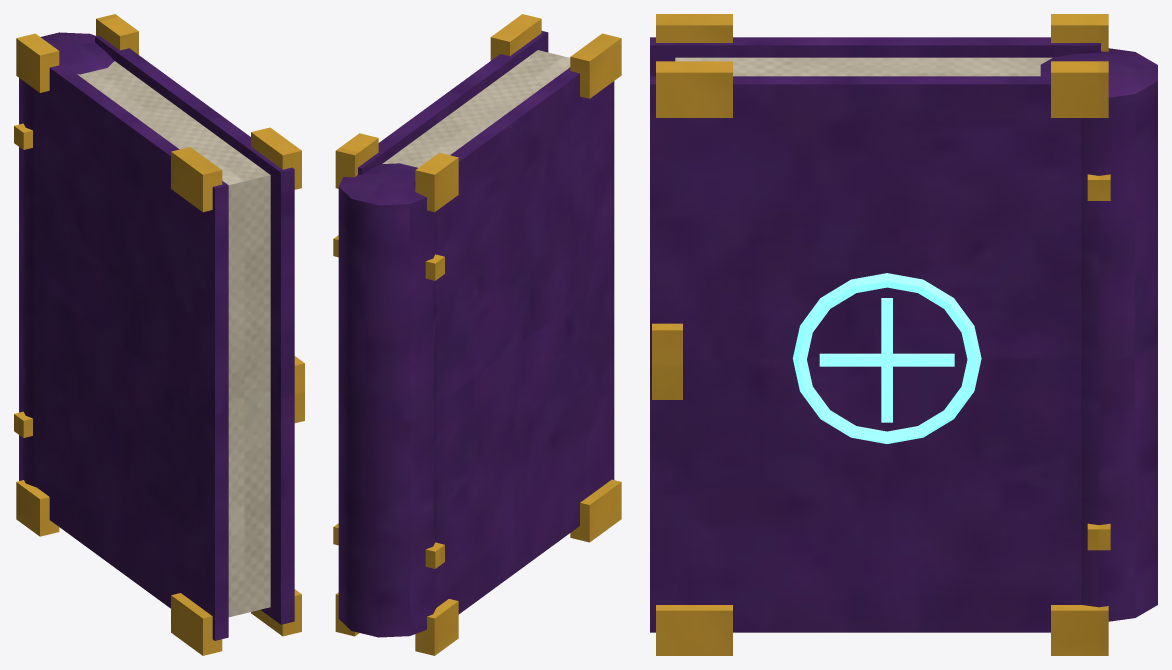
File: spellbook.glb
3 renders of one model, left to right at view 1: azimuth 30°, elevation 25°; view 2: azimuth 150°, elevation 25°; view 3: azimuth 270°, elevation 25°, orthographic. The views are drawn at different scales.
Parts seen in each view (by area): view 1: spellbook; view 2: spellbook; view 3: spellbook.
Part boxes in pixels (box(x1,y1,x2,y2)): spellbook: box(14, 14, 304, 655); spellbook: box(333, 14, 621, 655); spellbook: box(650, 14, 1157, 655).
Bounding box in the file's own units: 0.074 × 0.334 × 0.2634.
Materials: 4 (4 with a texture image).
